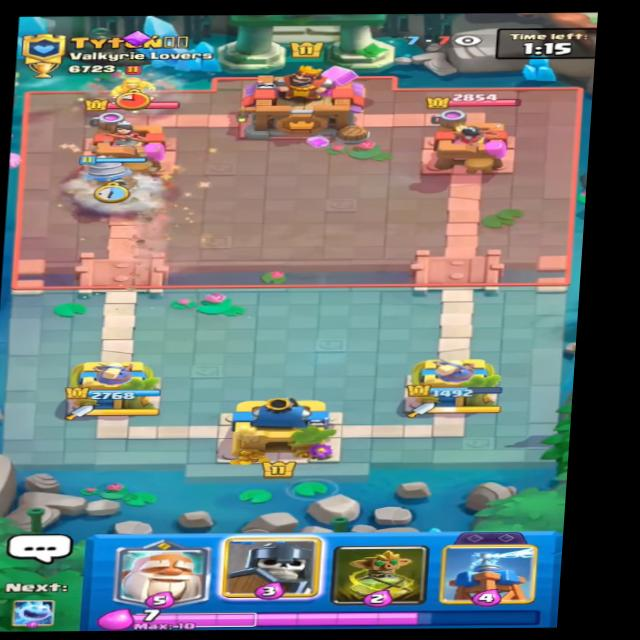wizard: (92, 63, 161, 104)
